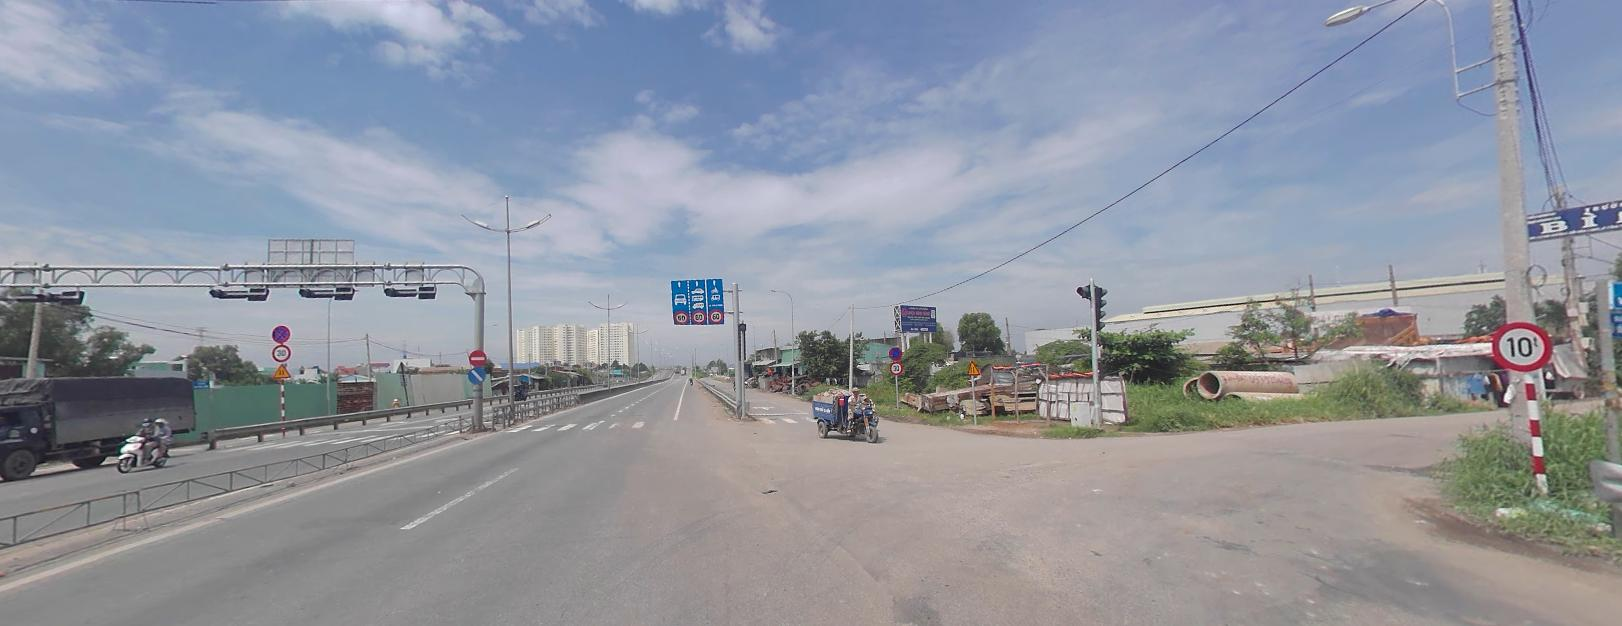Cam con lai: (1491, 318, 1553, 369)
Cam dung va do: (270, 323, 289, 341), (888, 345, 901, 358)
Cam nguoc chieu: (469, 347, 486, 364)
Gioi han toc do: (271, 342, 292, 361), (691, 308, 705, 322), (708, 307, 722, 321), (888, 360, 902, 372), (675, 309, 688, 322)
Hieu lenh: (467, 365, 486, 382)
Nguy hiem: (272, 362, 291, 377), (966, 358, 980, 372)
